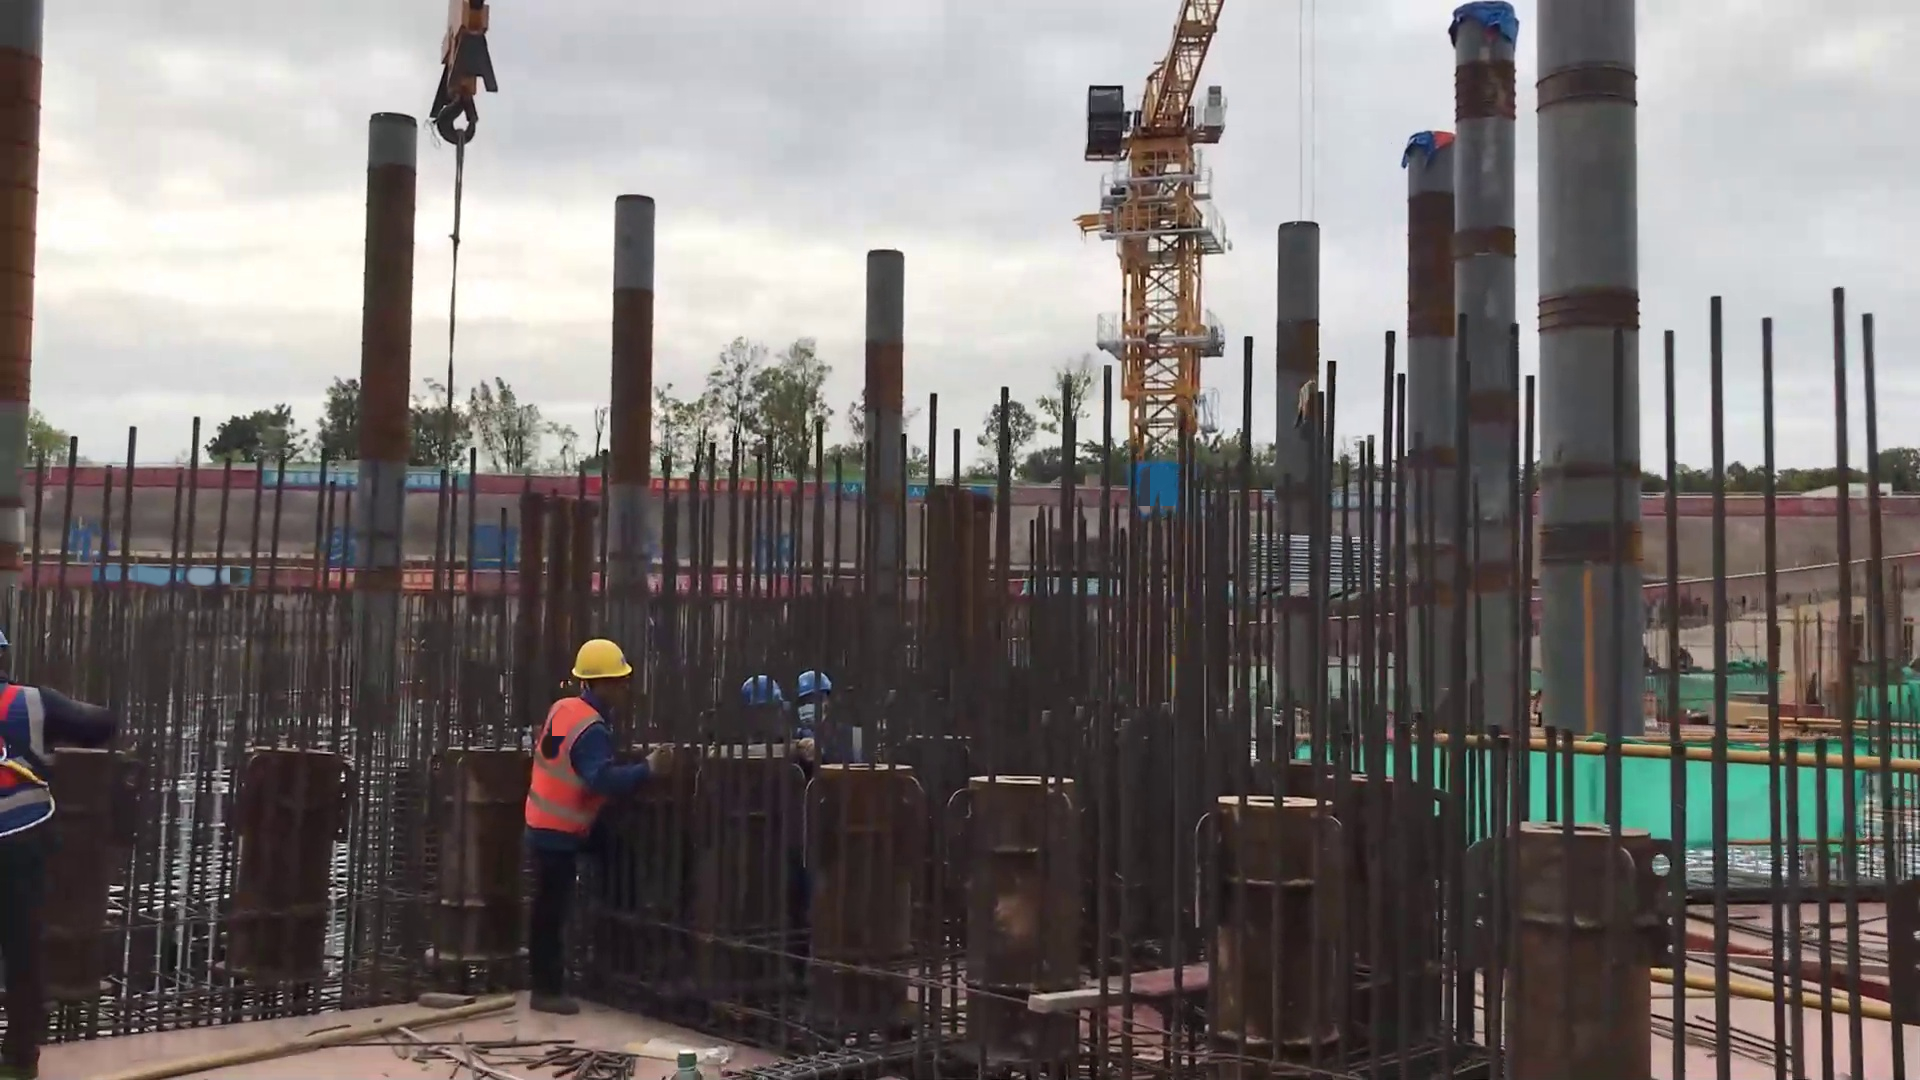helmet: (742, 667, 840, 707), (567, 634, 637, 685)
hook: (425, 6, 494, 154)
person: (522, 633, 678, 1020), (2, 616, 126, 1080), (741, 661, 871, 769)
vest: (529, 689, 611, 858), (4, 680, 64, 840)
